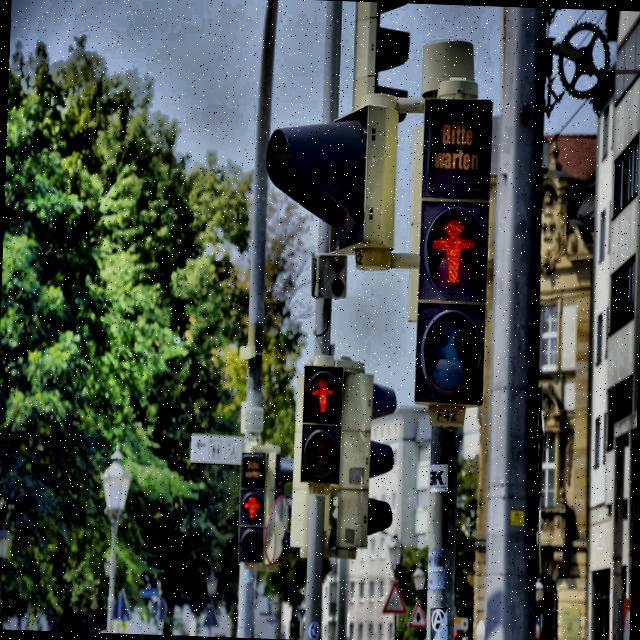red_light: (429, 215, 478, 288), (308, 376, 336, 415), (243, 494, 262, 521)
